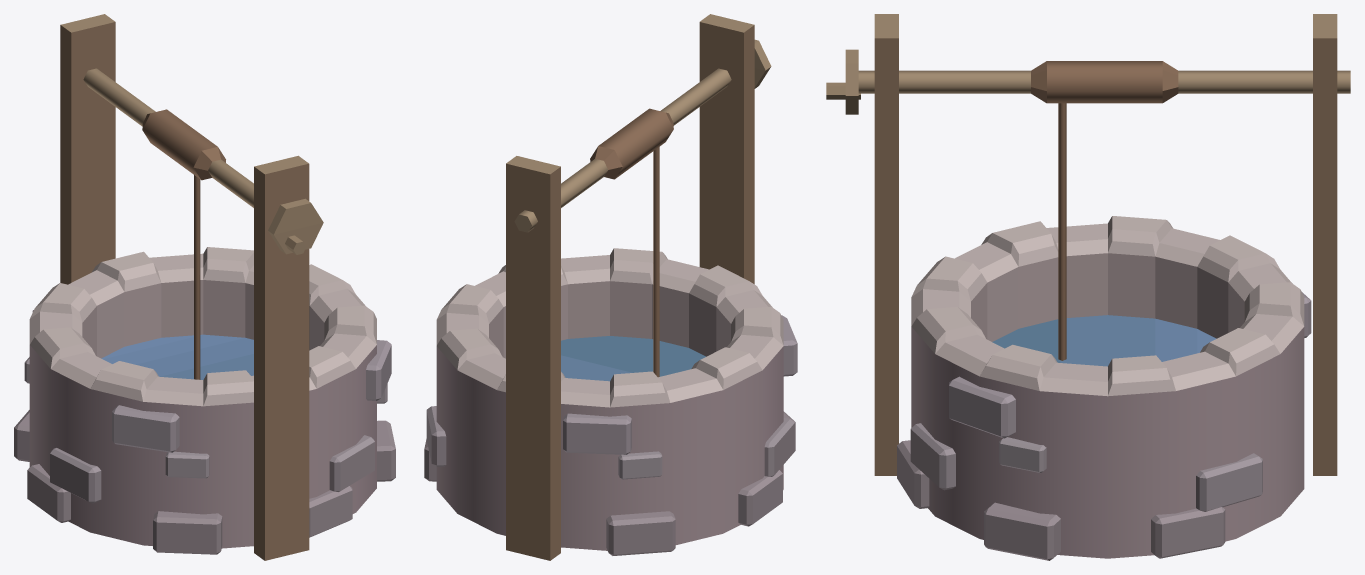
File: well.glb
3 views of the same model, side by side, from view 1: azimuth 30°, elevation 25°; view 2: azimuth 150°, elevation 25°; view 3: azimuth 270°, elevation 25° (orthographic). The views are drawn at different scales.
Visible parts, largest first — view 1: Well.001; view 2: Well.001; view 3: Well.001.
Part boxes in pixels (x1,y1,x2,y2): Well.001: [14, 14, 395, 560]; Well.001: [424, 14, 797, 560]; Well.001: [826, 14, 1350, 560].
Size of the model in its own units: 1.43 by 1.65 by 1.79.
